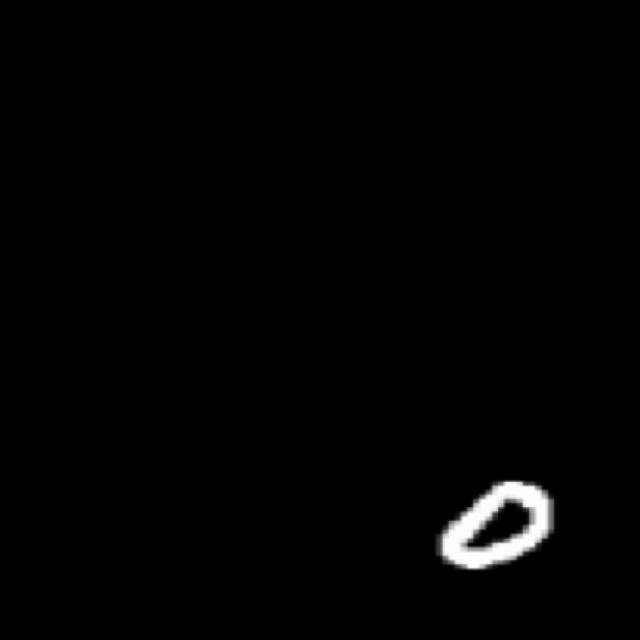zero -0-: (417, 469, 569, 582)
